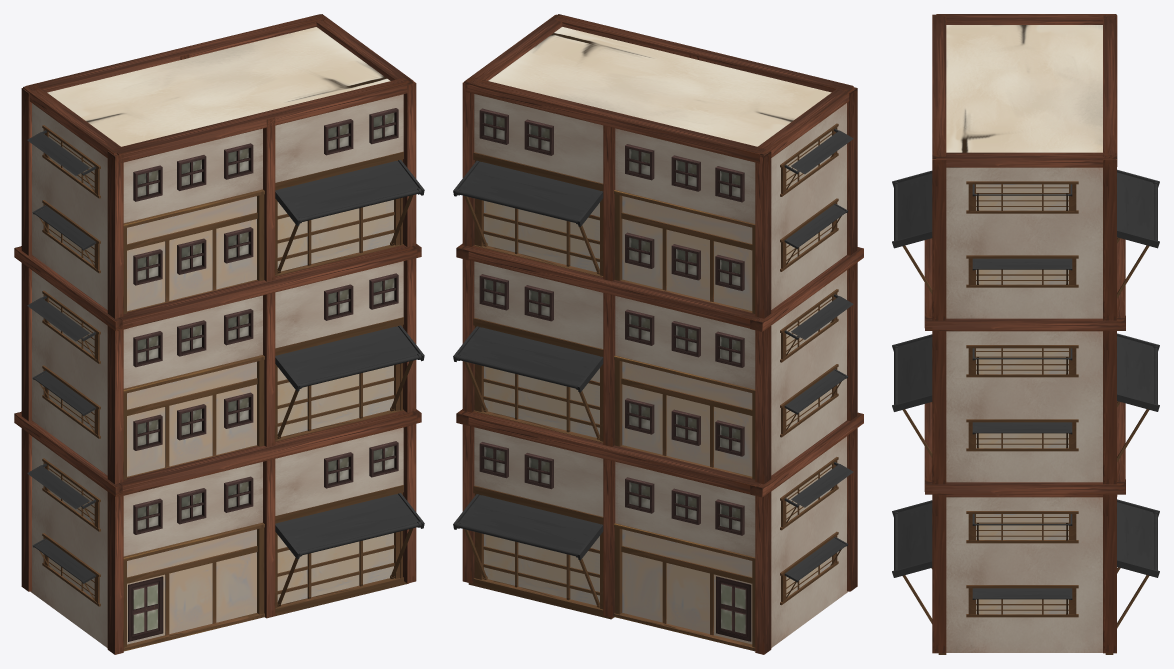
The model's file is Nha 18.fbx.
The picture shows the model from 3 angles, left to right: view 1: azimuth 30°, elevation 25°; view 2: azimuth 150°, elevation 25°; view 3: azimuth 270°, elevation 25°; orthographic projection.
Visible parts, largest first — view 1: Plane.337; view 2: Plane.337; view 3: Plane.337.
Part boxes in pixels (x1=…): Plane.337: x1=14, y1=14, x2=424, y2=654; Plane.337: x1=453, y1=14, x2=863, y2=654; Plane.337: x1=892, y1=14, x2=1159, y2=654.
Size of the model in its own units: 1718 by 2505 by 1222.
